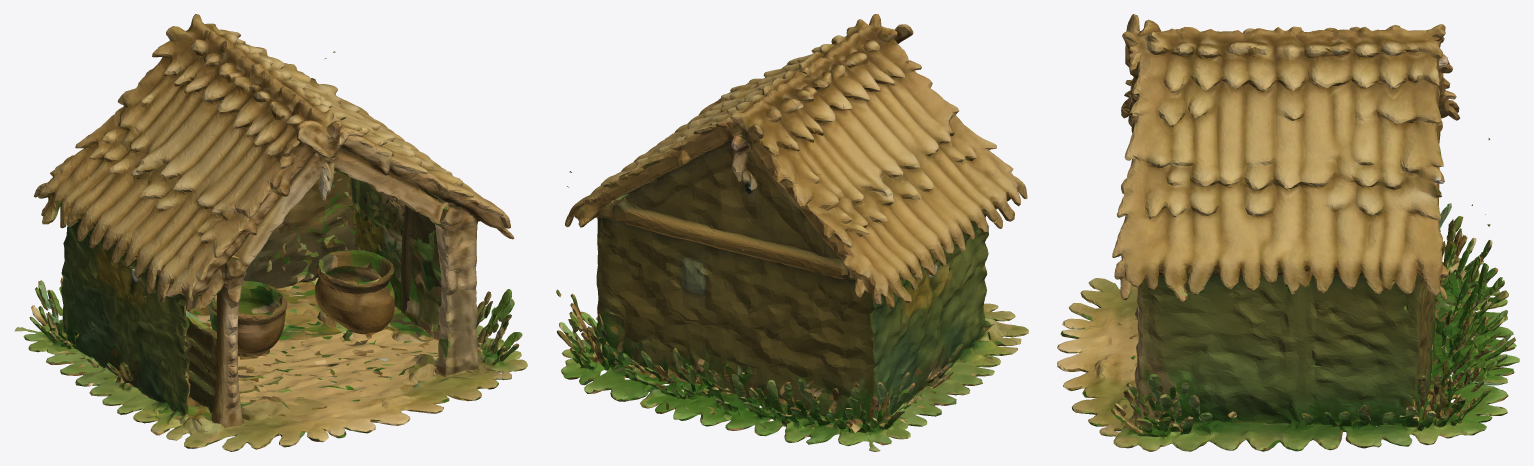
Rendered from wc-hut-paint.glb.
3 renders of one model, left to right at view 1: azimuth 30°, elevation 25°; view 2: azimuth 150°, elevation 25°; view 3: azimuth 270°, elevation 25°, orthographic. The views are drawn at different scales.
Parts seen in each view (by area): view 1: geometry_0; view 2: geometry_0; view 3: geometry_0.
Part boxes in pixels (x1,y1,x2,y2): geometry_0: [14, 14, 527, 451]; geometry_0: [556, 14, 1028, 451]; geometry_0: [1057, 14, 1519, 451].
Size of the model in its own units: 1.99 by 1.53 by 1.99.
1 material, 1 textured.
